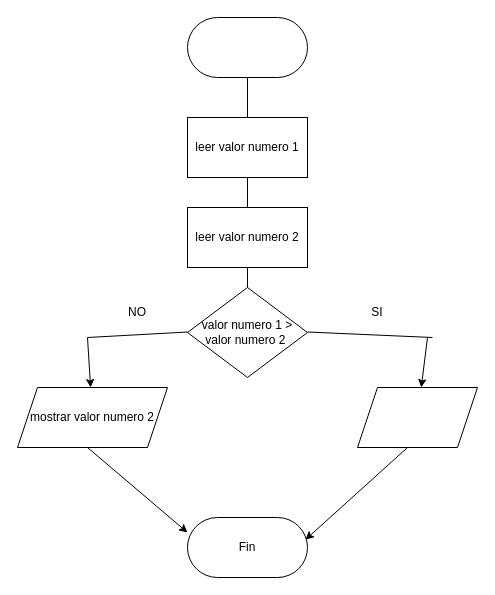
Some shapes in this 495 by 595 pixel diagram are drawn without their labels. Here are the shapes that lost their labels. From the top down, the centre of each, then its label:
point (247, 47): inicio
point (417, 417): Mostrar valor numero1
